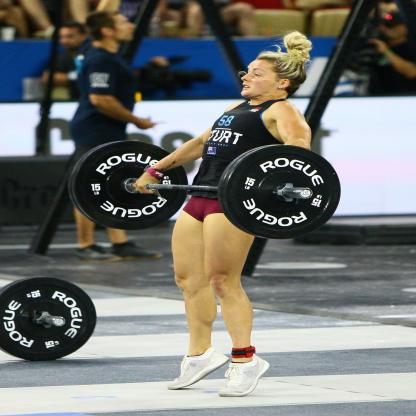barbell: (225, 146, 344, 241), (74, 141, 190, 232), (1, 277, 98, 364)
